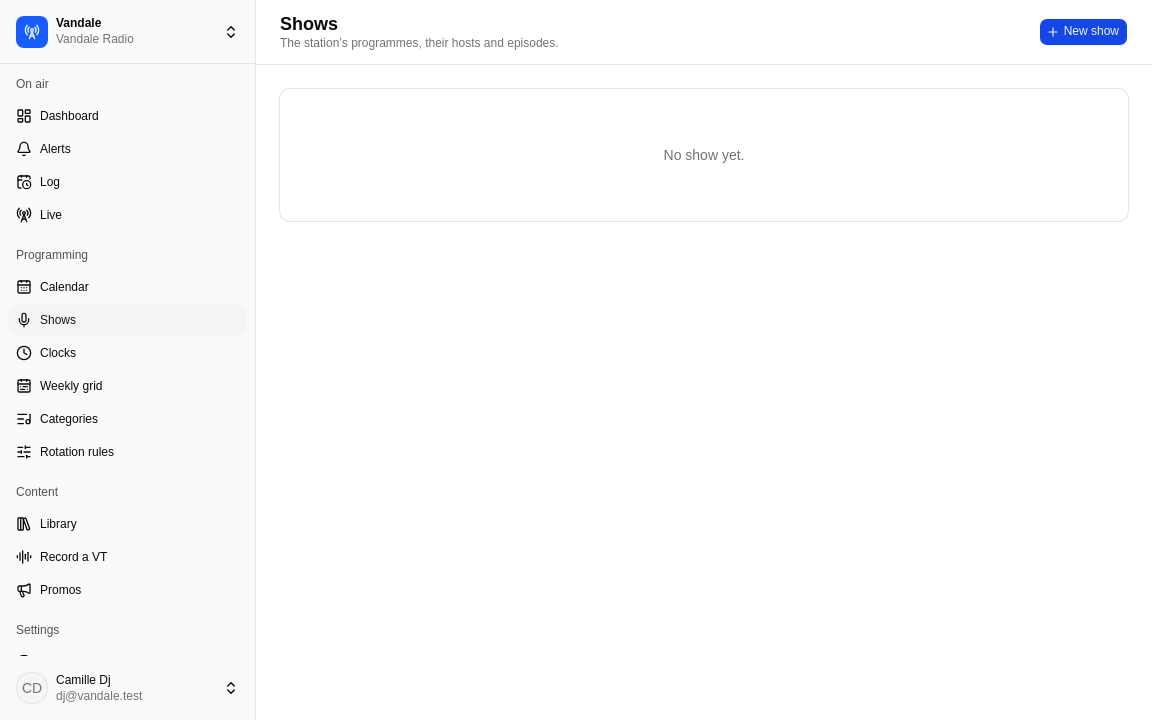
shows list › creates a show with hosts as a programmer, then opens it
Click the button "New show" at (1083, 32), box [1039,18,1128,46]
(page scrolled)
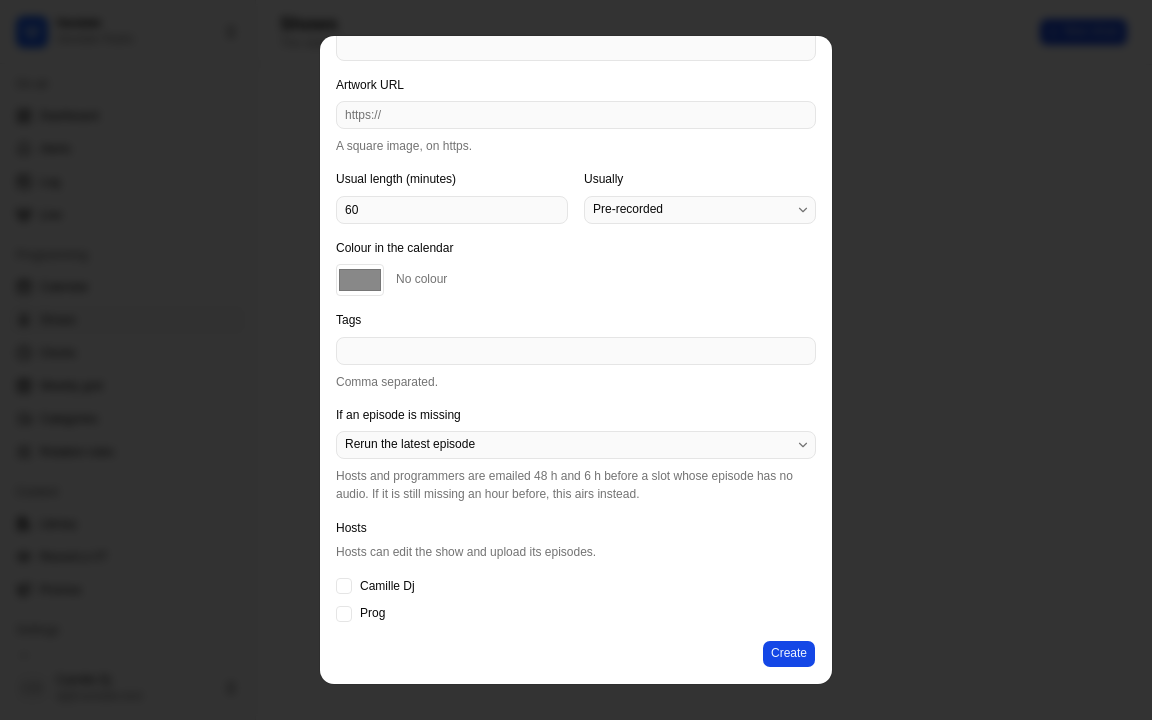
Click the button "Create" at (789, 654), box [762,640,816,668]
(page scrolled)
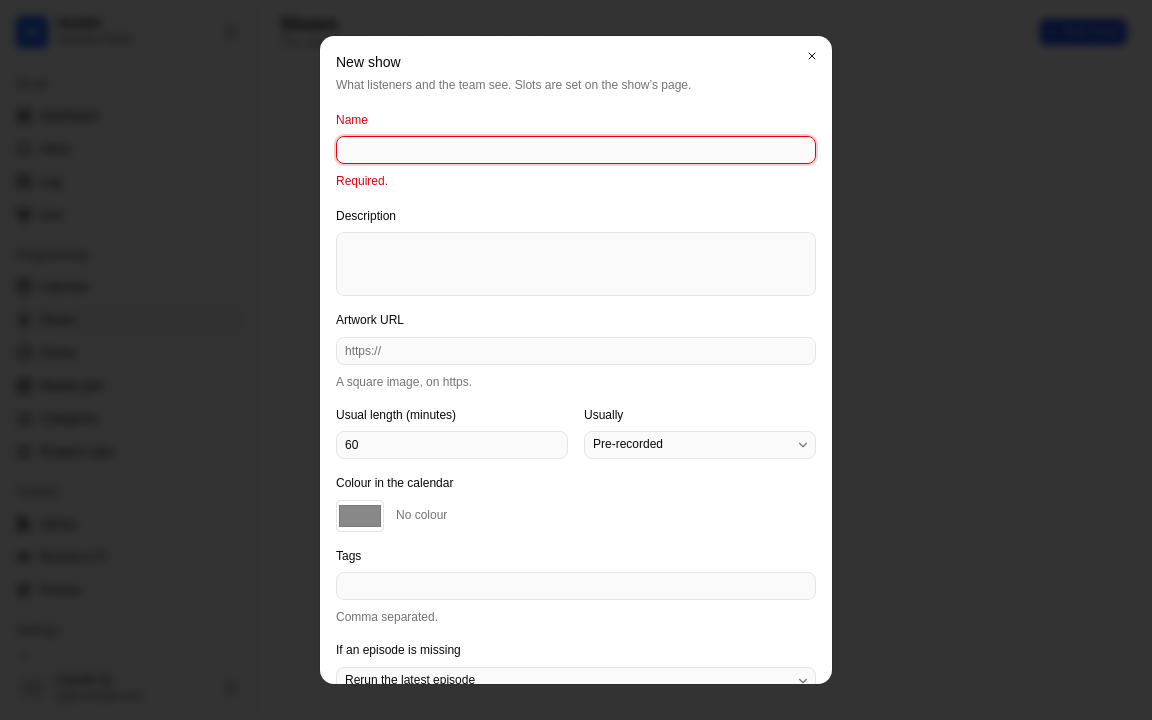
Check: the text "Required." is shown, box [336,174,388,188]
Type "La Matinale" into the field labelled "Name" at (576, 150), box [336,136,816,164]
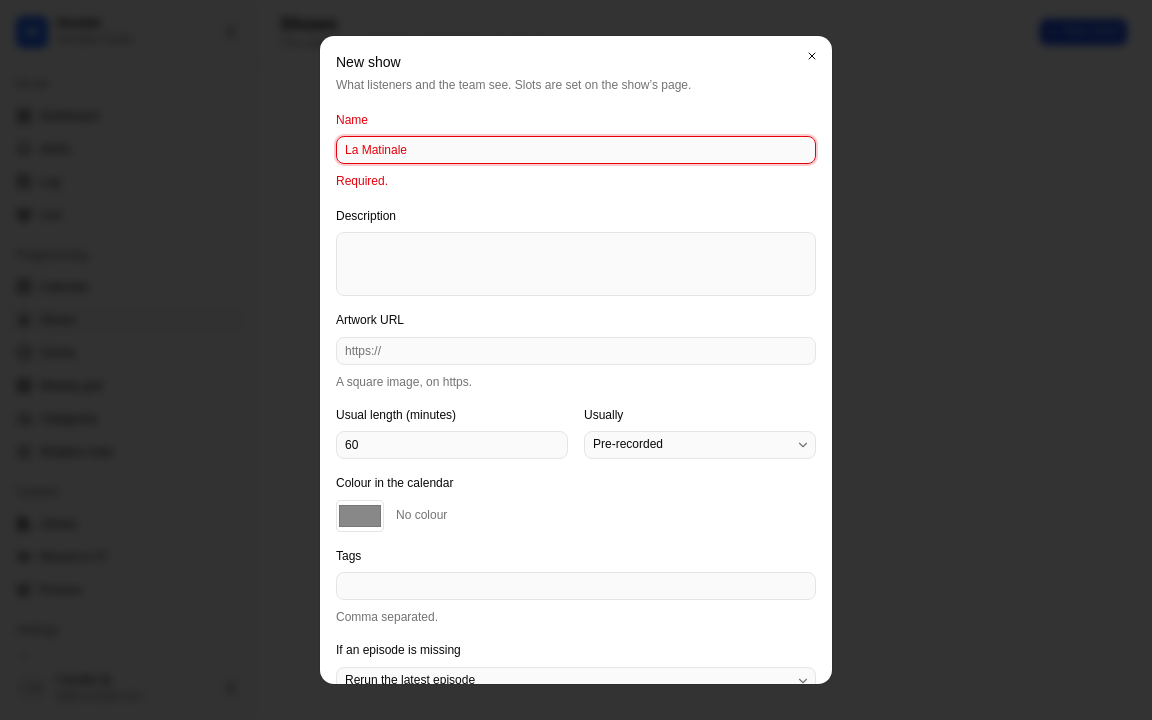
Type "talk, news" into the field labelled "Tags" at (576, 586), box [336,572,816,600]
(page scrolled)
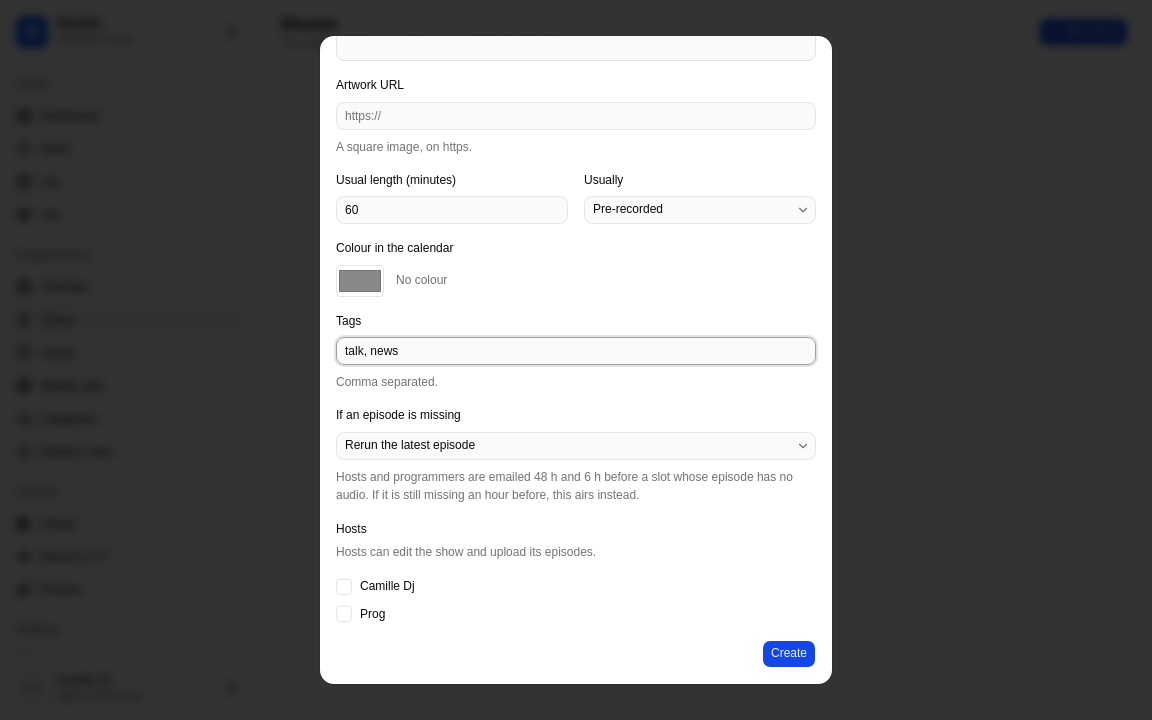
Click the 1st checkbox named "Camille Dj" at (344, 587), box [336,579,352,595]
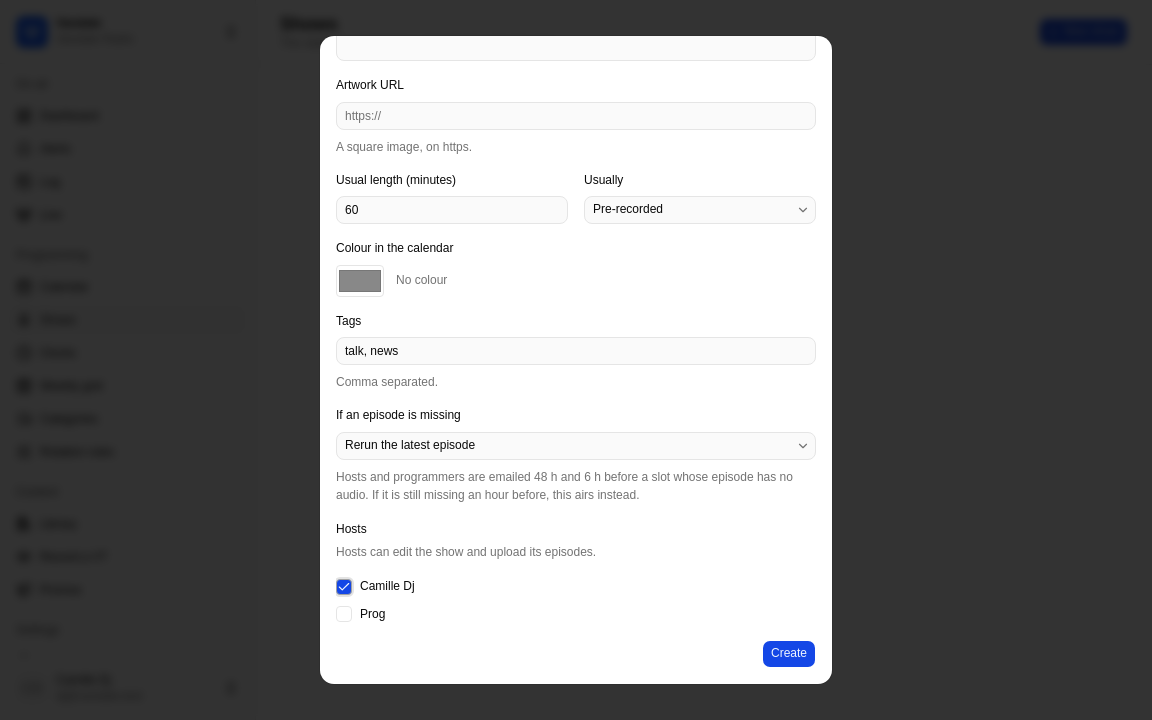
Click the button "Create" at (789, 654), box [762,640,816,668]
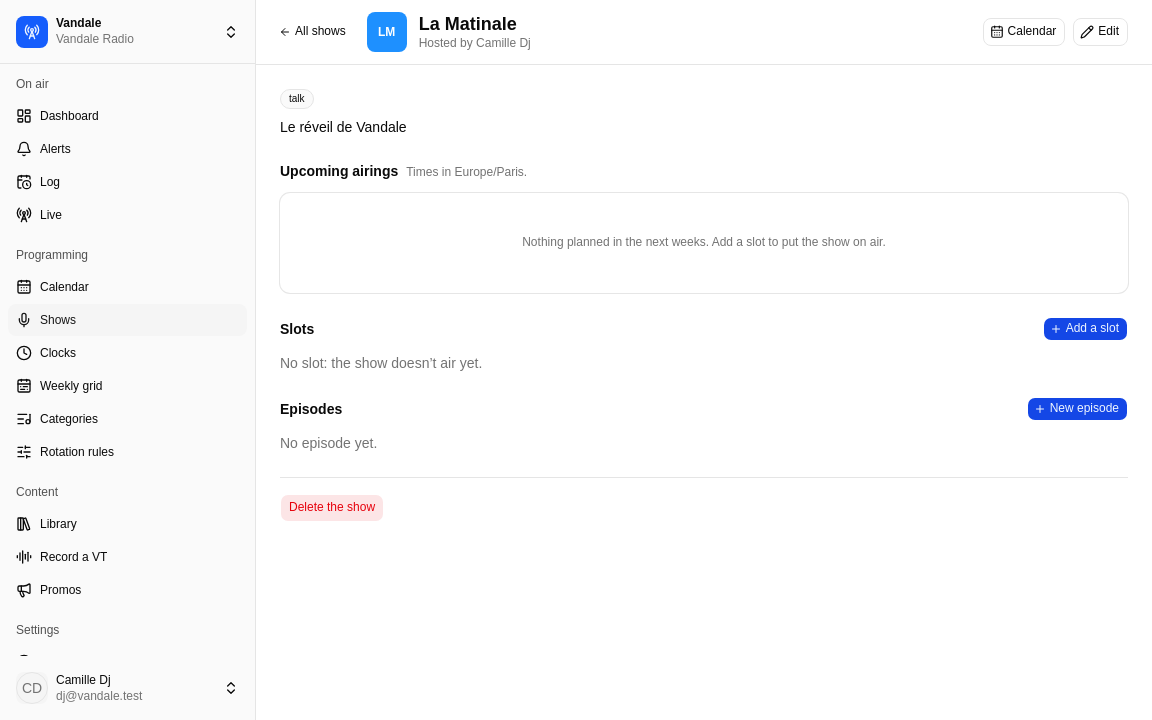
Check: the heading "La Matinale" is shown, box [419,13,517,35]
